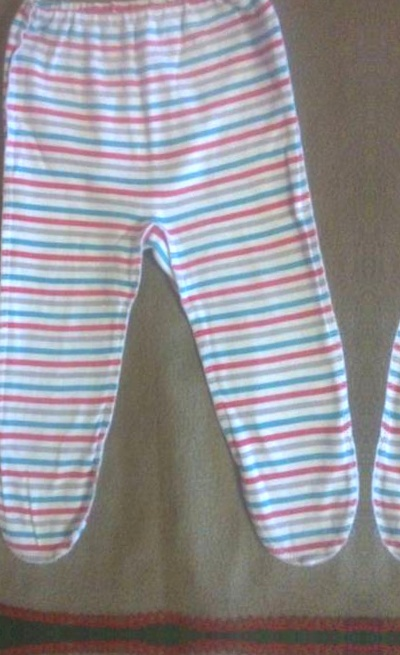Pants: (0, 0, 373, 587), (364, 0, 400, 593)
